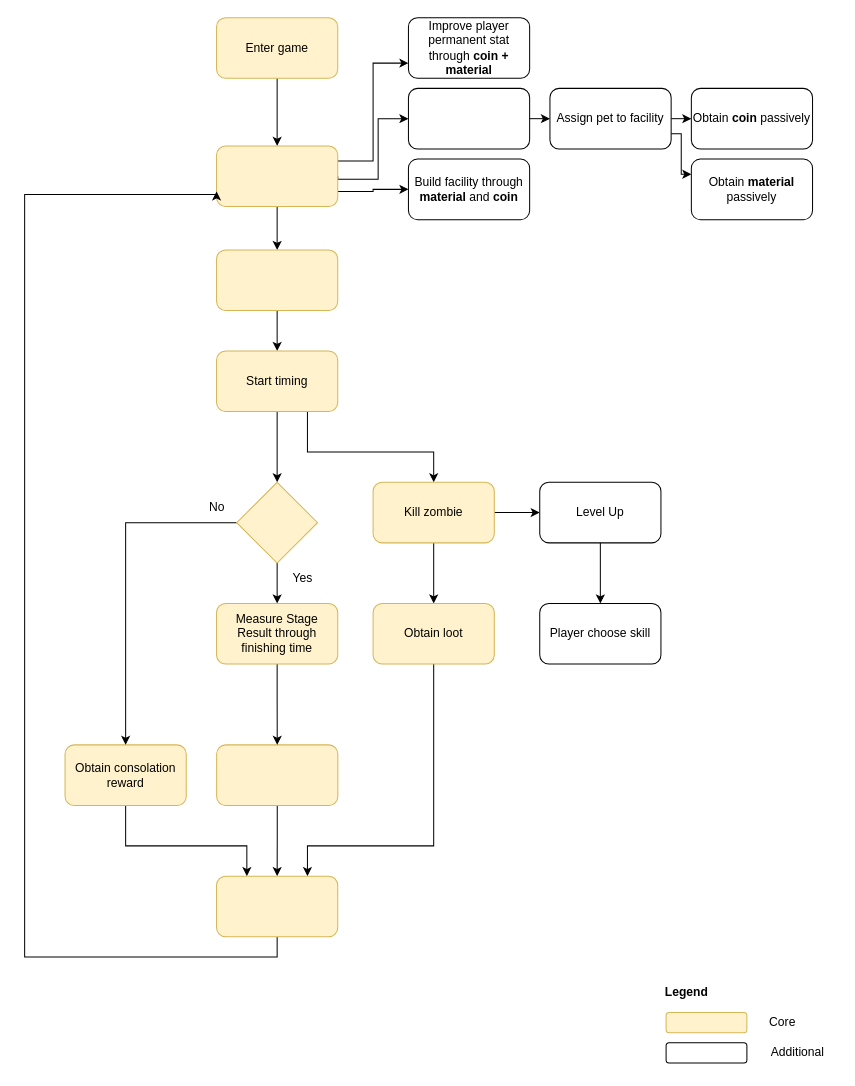
Image size: 855x1086. Some labels were removed from this diagram. The centre of each missing label's shape, as x and y in pixels:
"Buy pet randomly using coin" goes at pixel 468 118.
"Choose game stage" goes at pixel 277 280.
"Enter player's base" goes at pixel 277 176.
"Finalize Loot" goes at pixel 277 906.
"Kill boss" goes at pixel 277 522.
"Obtain winning reward" goes at pixel 277 774.
